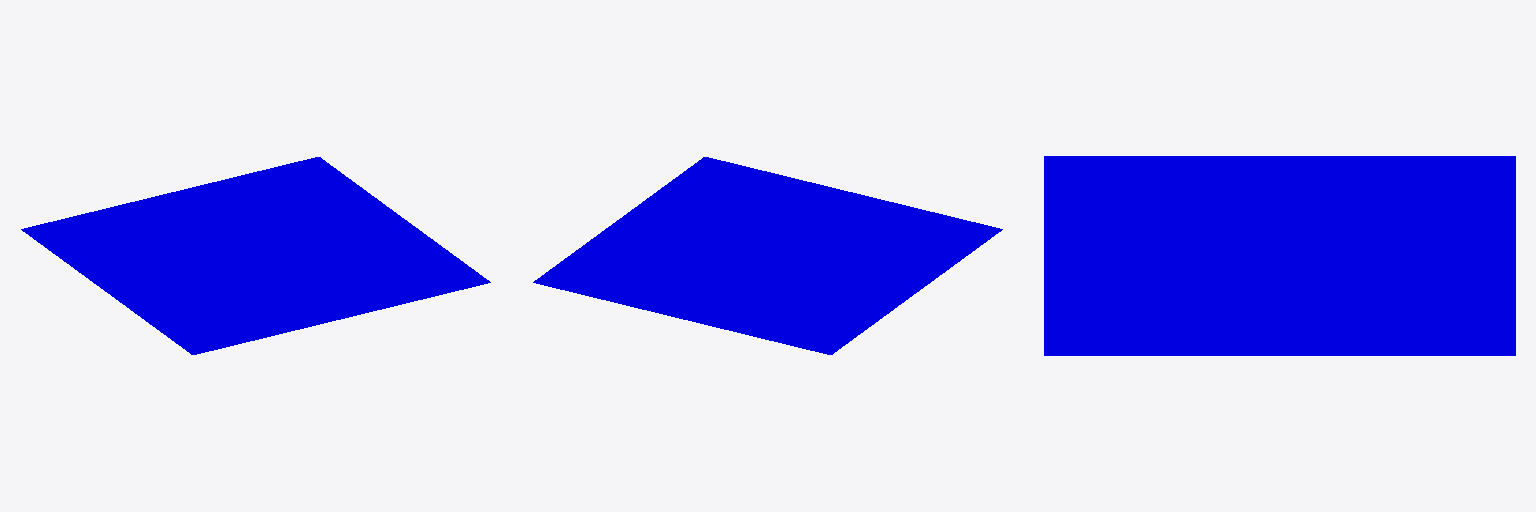
The robot description file, URDF, robot "insert_task_block3":
<?xml version="1.0" ?>
<robot name="insert_task_block3">
  <link name="insert_task_block3_link">
    <inertial>
      <mass value="3.3"/>
      <origin rpy="0 0 0" xyz="0 0 0"/>
      <inertia ixx="4.51" ixy="0.0" ixz="0.0" iyy="4.51" iyz="0.0" izz="4.51"/>
    </inertial>
    <collision name="insert_task_block3__collision">
      <origin rpy="0 0 0" xyz="0 0 0"/>
      <geometry>
        <mesh filename="package://meshes/insert_task_block3.dae" scale="1 1 0"/>
      </geometry>
    </collision>
    <visual name="insert_task_block3__visual">
      <origin rpy="0 0 0" xyz="0 0 0"/>
      <geometry>
        <mesh filename="package://meshes/insert_task_block3.dae" scale="1 1 0"/>
      </geometry>
      <material name="blockmat">
        <color rgba="0.0 0.0 1.0 1"/>
      </material>
    </visual>
  </link>
</robot>

--- Facts derived from the render (not from the file) ---
3 views of the same robot in one strip: view 1: azimuth 30°, elevation 25°; view 2: azimuth 150°, elevation 25°; view 3: azimuth 270°, elevation 25° (orthographic).
Model insert_task_block3 with 1 links and 0 joints (none), rooted at insert_task_block3_link, posed all joints at 0.
Links seen in each view (by area): view 1: insert_task_block3_link; view 2: insert_task_block3_link; view 3: insert_task_block3_link.
Boxes of the visible links, left/top/right/bottom form: insert_task_block3_link: left=21, top=157, right=490, bottom=354; insert_task_block3_link: left=533, top=157, right=1002, bottom=354; insert_task_block3_link: left=1044, top=156, right=1515, bottom=355.
Bounding box of the posed robot: 0.1 × 0.1 × 0 m (x, y, z).
Meshes: 1 distinct files referenced, 1 mesh visuals loaded (1 Collada DAE).
